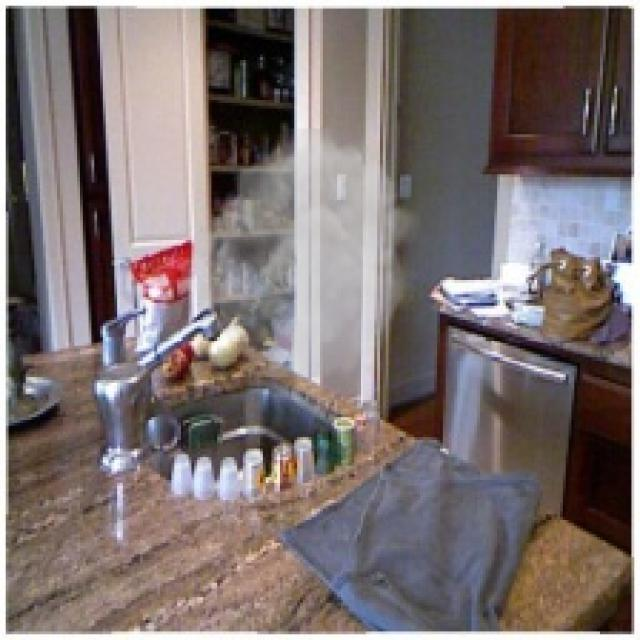Smoke: (188, 128, 422, 378)
